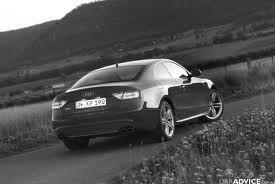car: (53, 60, 224, 152)
